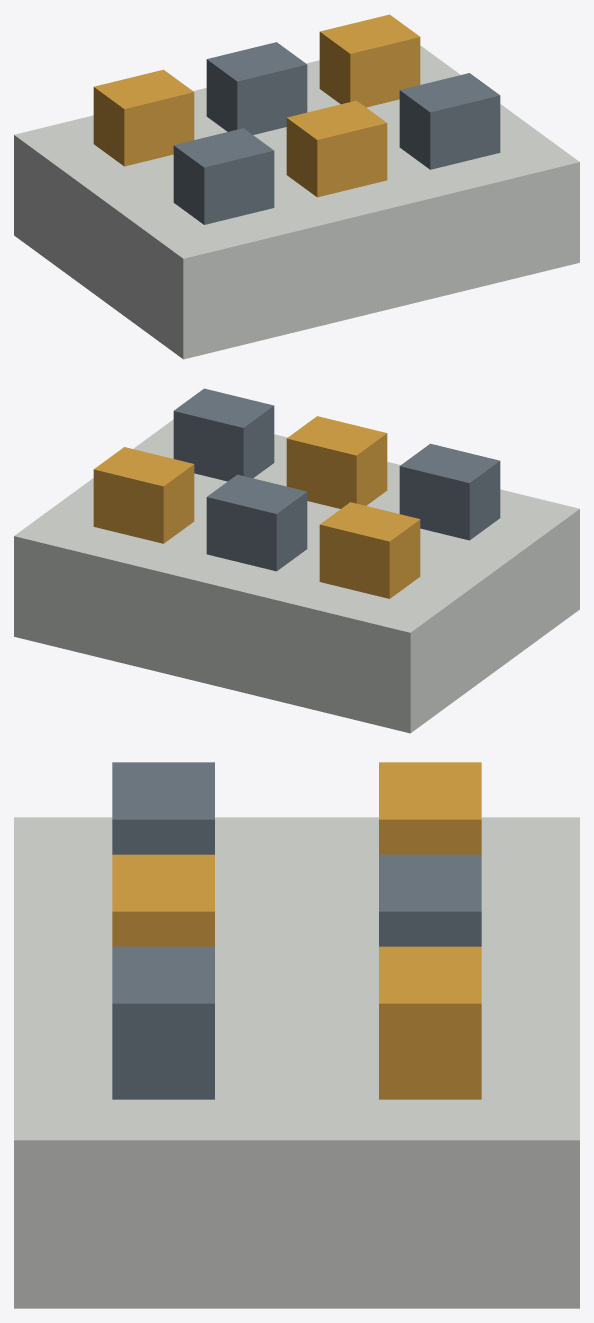
Rendered from iss_us_segment.kibo_exposed_facility.glb.
3 renders of one model, top to bottom at view 1: azimuth 30°, elevation 25°; view 2: azimuth 150°, elevation 25°; view 3: azimuth 270°, elevation 25°, orthographic. The views are drawn at different scales.
Parts seen in each view (by area): view 1: iss_us_segment.kibo_exposed_facility.mesh_Pale_thermal_blank, iss_us_segment.kibo_exposed_facility.mesh_Machined_steel, iss_us_segment.kibo_exposed_facility.mesh_Gold_thermal_insul; view 2: iss_us_segment.kibo_exposed_facility.mesh_Pale_thermal_blank, iss_us_segment.kibo_exposed_facility.mesh_Gold_thermal_insul, iss_us_segment.kibo_exposed_facility.mesh_Machined_steel; view 3: iss_us_segment.kibo_exposed_facility.mesh_Pale_thermal_blank, iss_us_segment.kibo_exposed_facility.mesh_Gold_thermal_insul, iss_us_segment.kibo_exposed_facility.mesh_Machined_steel.
Boxes of the visible parts, x1,y1,x2,y2 form: iss_us_segment.kibo_exposed_facility.mesh_Pale_thermal_blank: (14,45,579,359); iss_us_segment.kibo_exposed_facility.mesh_Machined_steel: (173,42,500,224); iss_us_segment.kibo_exposed_facility.mesh_Gold_thermal_insul: (93,14,420,197); iss_us_segment.kibo_exposed_facility.mesh_Pale_thermal_blank: (14,419,579,733); iss_us_segment.kibo_exposed_facility.mesh_Gold_thermal_insul: (93,416,420,598); iss_us_segment.kibo_exposed_facility.mesh_Machined_steel: (173,388,500,571); iss_us_segment.kibo_exposed_facility.mesh_Pale_thermal_blank: (14,817,579,1308); iss_us_segment.kibo_exposed_facility.mesh_Gold_thermal_insul: (112,762,481,1099); iss_us_segment.kibo_exposed_facility.mesh_Machined_steel: (112,762,481,1099).
Bounding box in the file's own units: 4.7 × 1.79 × 3.48.
